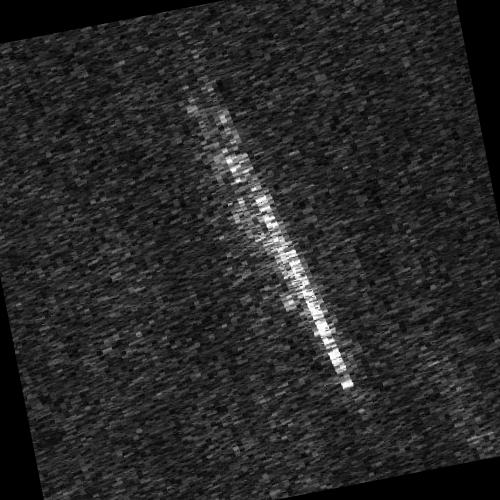ship: (213, 110, 356, 389)
